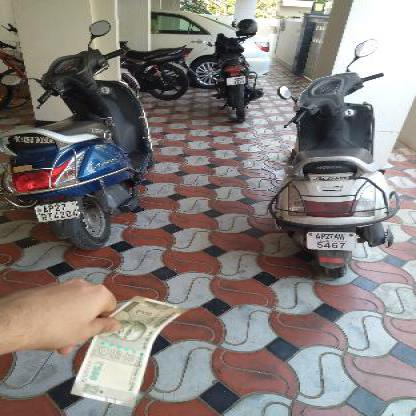New500Front: (77, 295, 171, 412)
